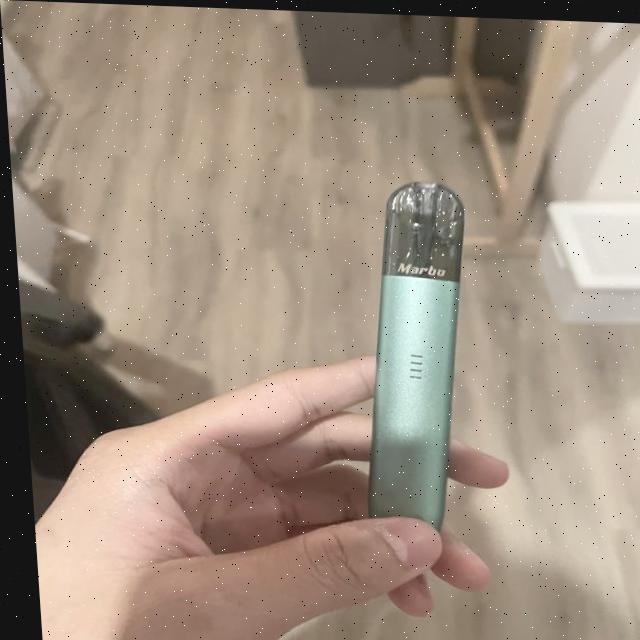vape: (341, 179, 478, 518)
